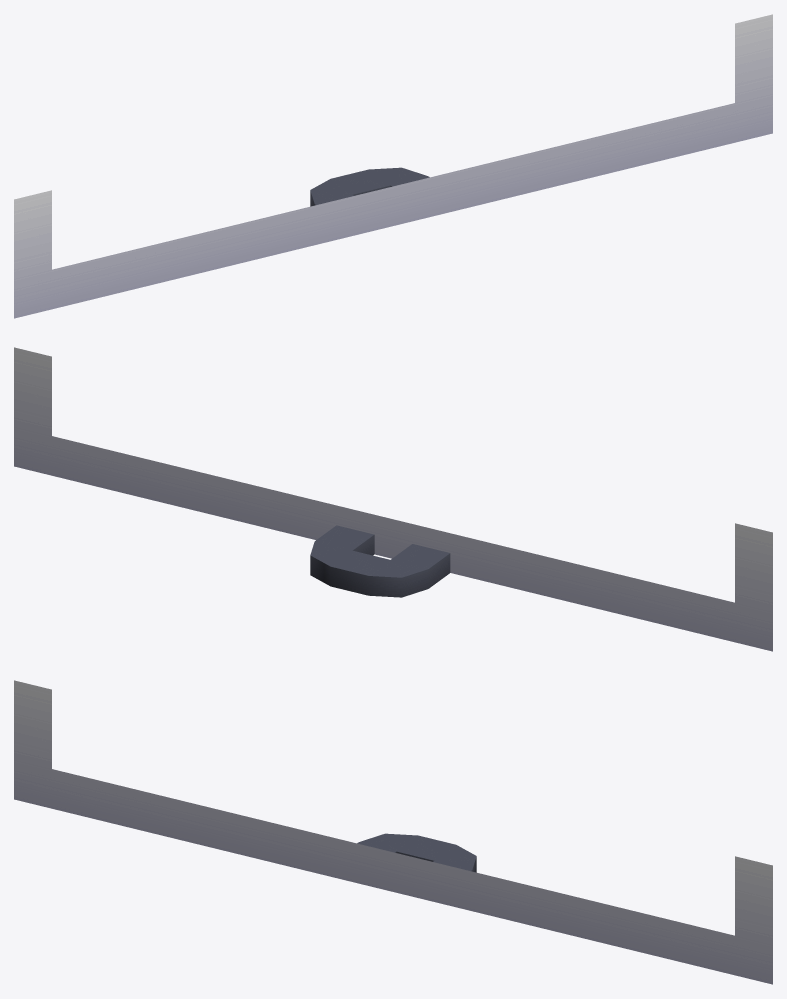
Rendered from toy-car-kit--track-striped-wide-cap-front.glb.
The picture shows the model from 3 angles, top to bottom: view 1: azimuth 30°, elevation 25°; view 2: azimuth 150°, elevation 25°; view 3: azimuth 330°, elevation 25°; orthographic projection.
Visible parts, largest first — view 1: track-striped-wide-cap-front; view 2: track-striped-wide-cap-front; view 3: track-striped-wide-cap-front.
Boxes of the visible parts, x1=… form: track-striped-wide-cap-front: x1=14, y1=14, x2=772, y2=318; track-striped-wide-cap-front: x1=14, y1=347, x2=772, y2=651; track-striped-wide-cap-front: x1=14, y1=680, x2=772, y2=984.
Size of the model in its own units: 2 by 0.3 by 0.2.
1 material, 1 textured.
